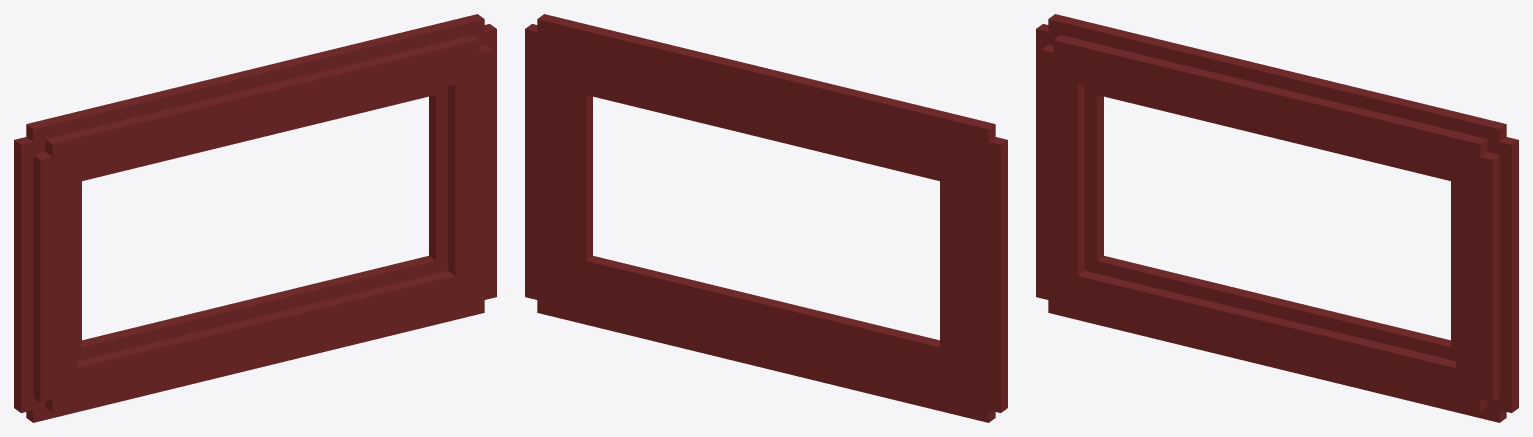
The model's file is lampa_8.dae.
The picture shows the model from 3 angles, left to right: view 1: azimuth 30°, elevation 25°; view 2: azimuth 150°, elevation 25°; view 3: azimuth 330°, elevation 25°; orthographic projection.
Parts seen in each view (by area): view 1: Content; view 2: Content; view 3: Content.
Boxes of the visible parts, <box> form: Content: <box>14,14,496,422</box>; Content: <box>525,14,1007,422</box>; Content: <box>1036,14,1518,422</box>.
Size of the model in its own units: 39 by 23 by 2.
1 material, 1 textured.
